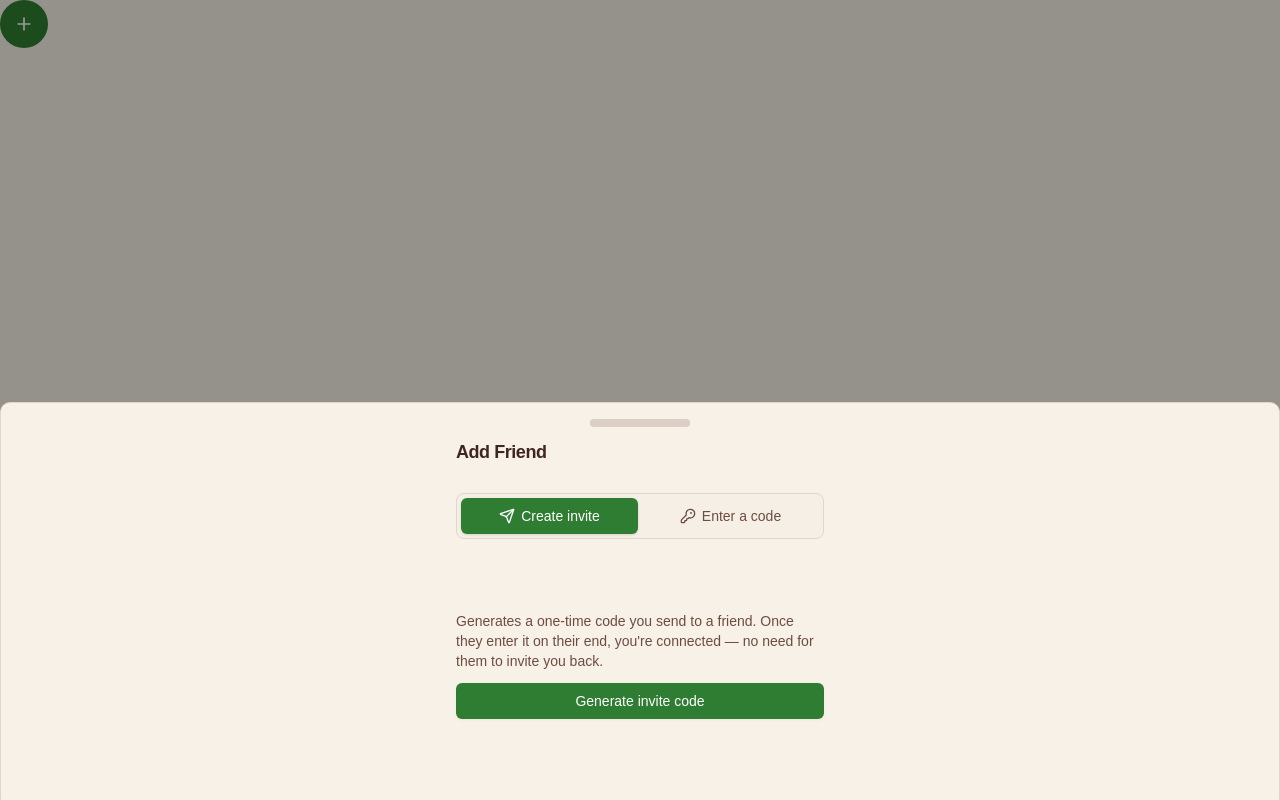
Scenario: AddFriendDrawer › shows the expired-code error message on a rejected redeem
Click the button "Enter a code".
click(730, 516)  # box [642,498,819,534]
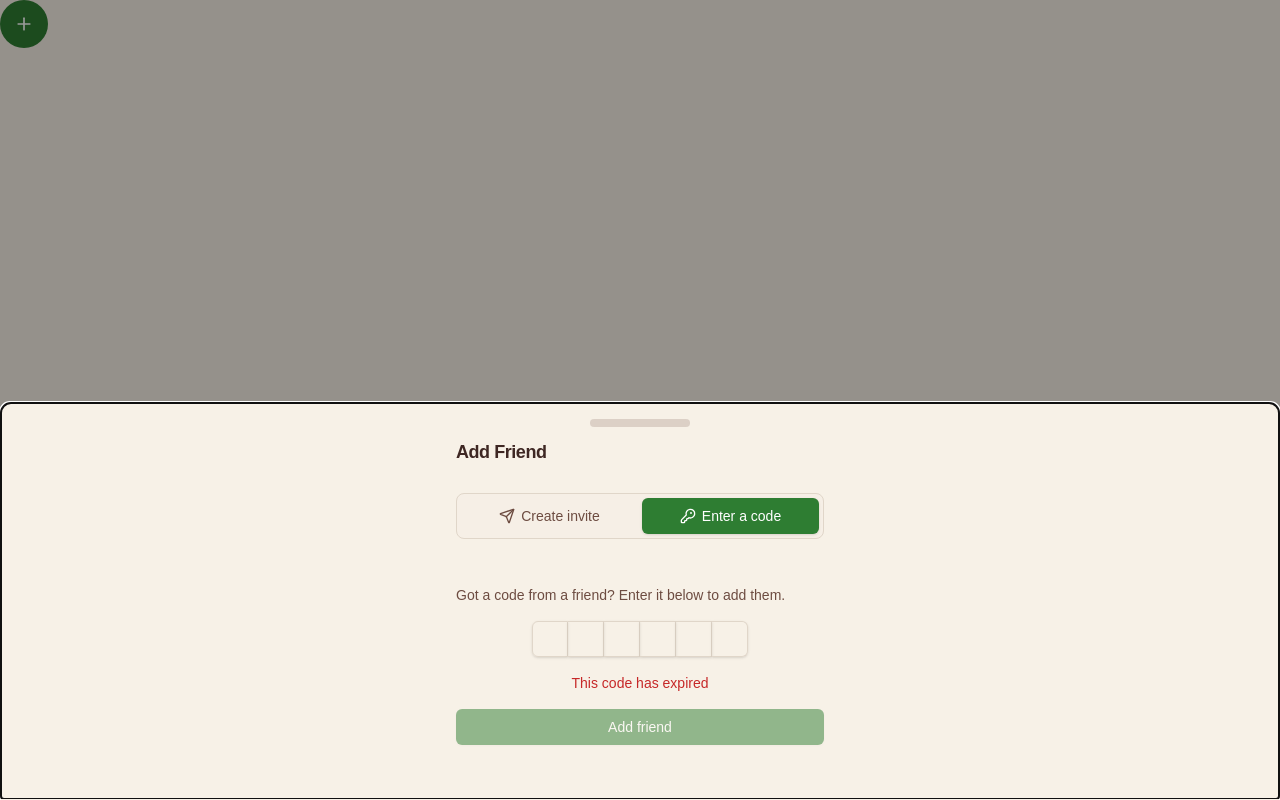
Expected: the text "This code has expired" is shown, [572,675,708,691]
